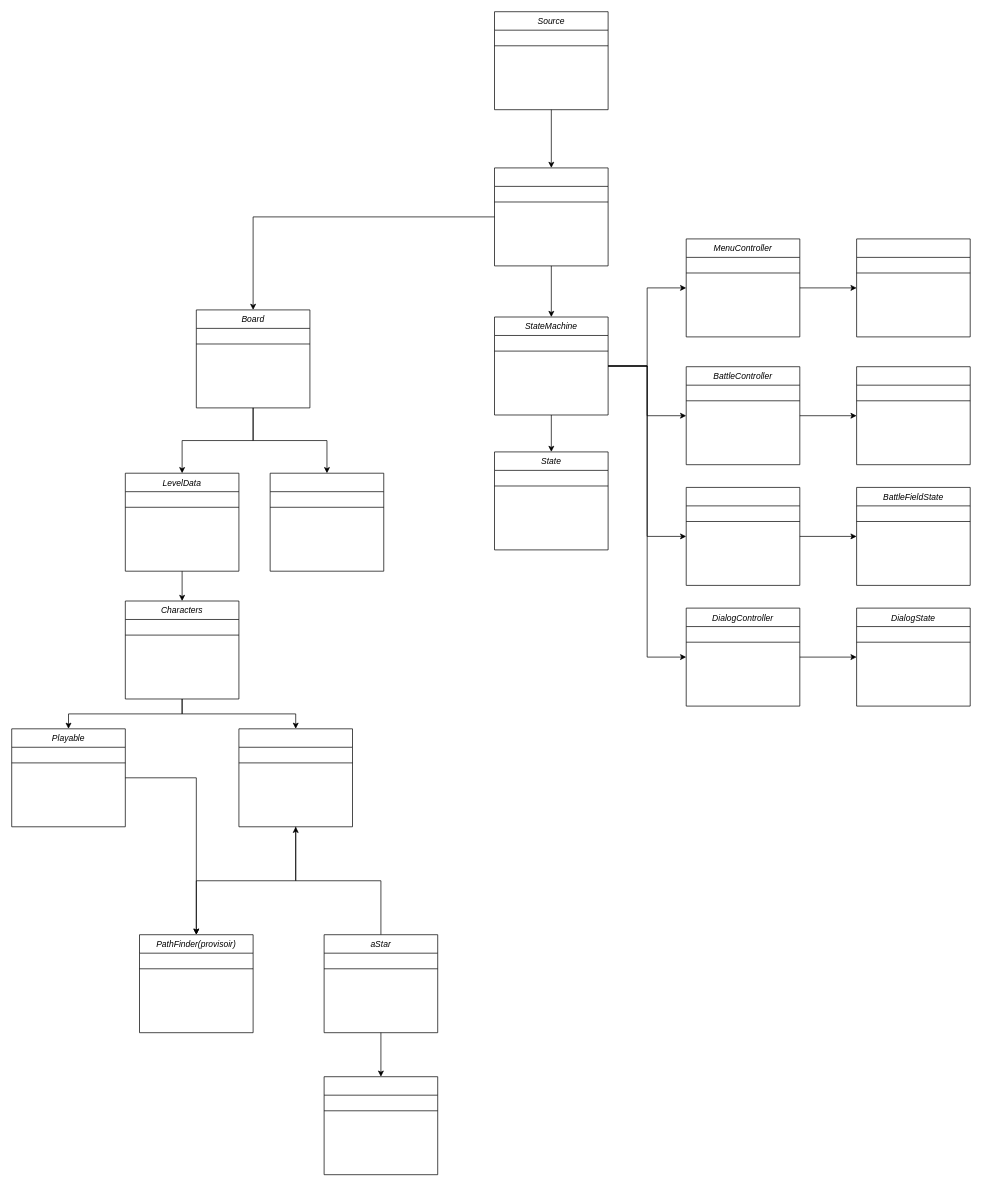
This 982x1186 diagram has some shape labels left out. Each missing label, with the centre of its shape:
BattleFieldController: the point at 743,536
BattleState: the point at 913,415
Game: the point at 551,216
MenuState: the point at 913,287
Node: the point at 380,1125
Non-Playable: the point at 295,777
Point: the point at 326,522
